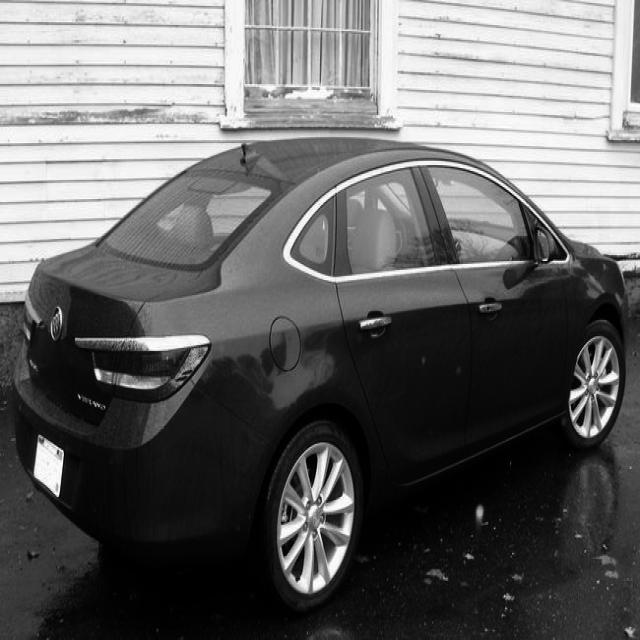car: (11, 136, 628, 615)
